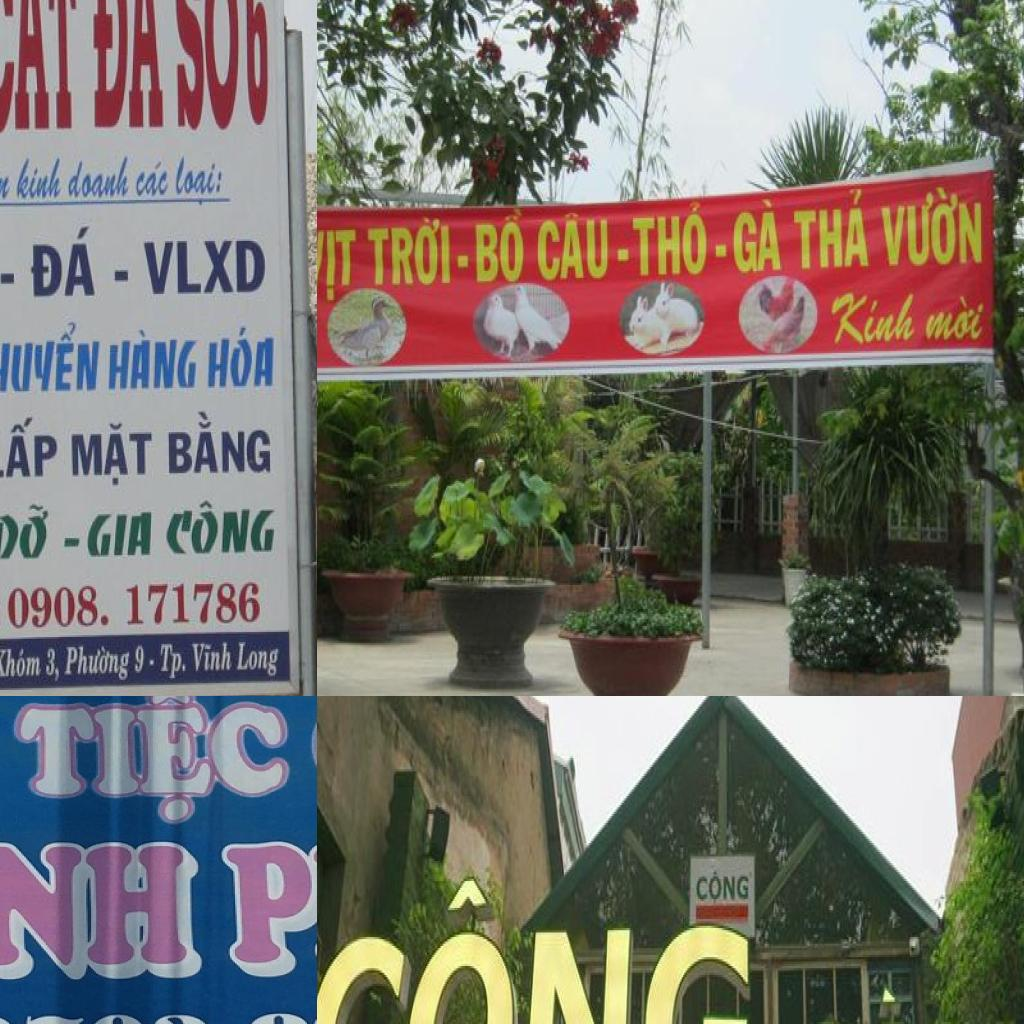text: (317, 865, 756, 1024), (0, 836, 213, 1009), (12, 696, 296, 823), (218, 797, 317, 989), (5, 570, 273, 636), (85, 0, 170, 138), (0, 0, 81, 138), (168, 0, 244, 145), (880, 175, 986, 271), (138, 224, 271, 299), (0, 317, 106, 401), (166, 405, 276, 483), (164, 495, 280, 564), (790, 186, 875, 280), (66, 420, 158, 496), (106, 323, 201, 395), (626, 198, 708, 281), (366, 213, 452, 290), (793, 981, 938, 1024), (28, 220, 104, 302), (205, 314, 280, 396), (538, 203, 612, 286), (829, 285, 921, 346), (84, 497, 158, 565), (0, 411, 62, 490), (470, 208, 528, 290), (730, 194, 785, 280), (0, 496, 55, 565), (317, 225, 364, 305), (66, 151, 133, 207), (922, 294, 990, 344), (173, 149, 225, 212), (12, 151, 66, 207), (65, 642, 131, 685), (694, 868, 752, 910), (235, 635, 283, 683), (190, 635, 236, 675), (132, 159, 172, 204), (0, 643, 42, 681), (158, 639, 190, 683), (44, 644, 62, 683), (109, 263, 134, 287), (0, 264, 21, 292), (61, 530, 83, 555), (134, 640, 147, 682), (616, 246, 632, 268), (456, 252, 472, 271), (714, 244, 730, 262), (147, 654, 159, 673)
